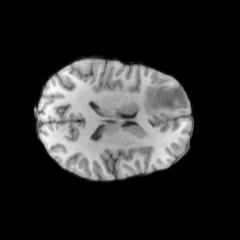glioma: (144, 85, 189, 116)
